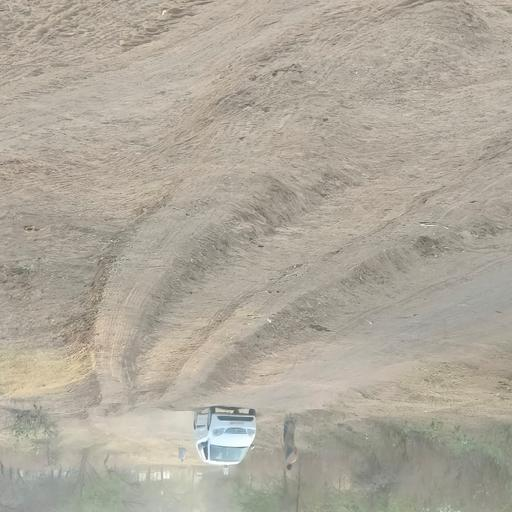vehicle_track: (92, 0, 512, 405), (162, 147, 512, 402), (217, 259, 512, 409)
